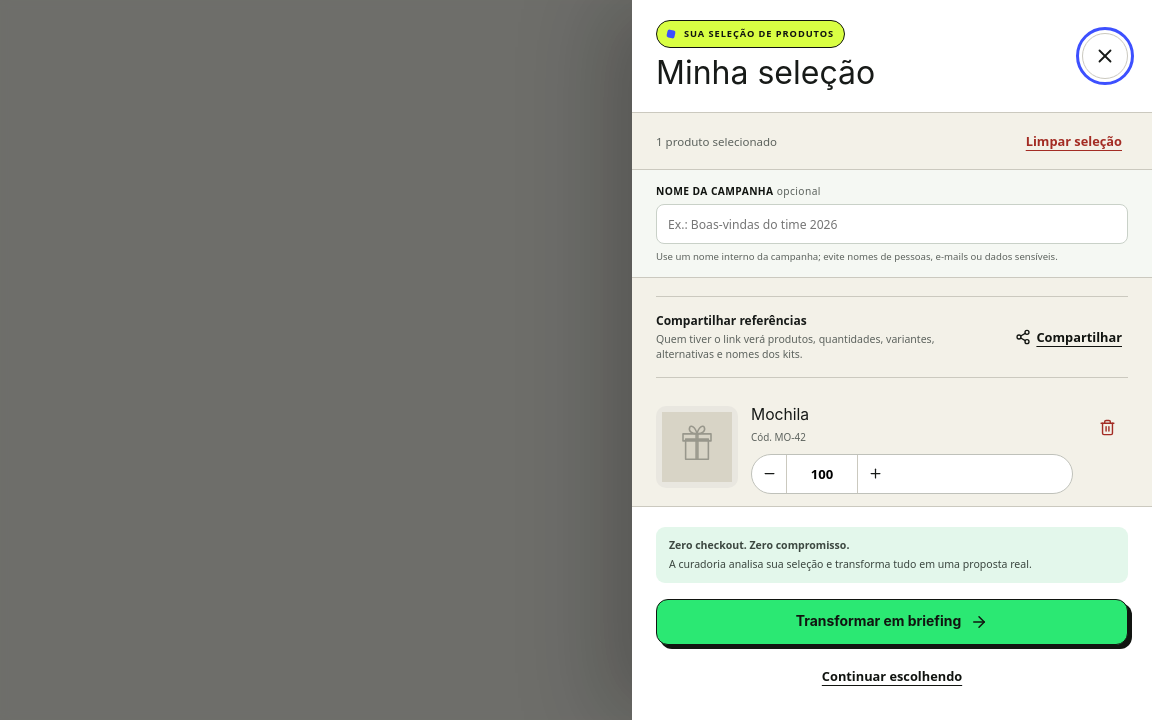
Test: QuoteDrawer › deixa substituir a quantidade inteira antes de aplicar o mínimo no blur
Replace the text in the number field named "Quantidade desejada de Mochila" with "250" at (822,474), box [786, 454, 858, 492]
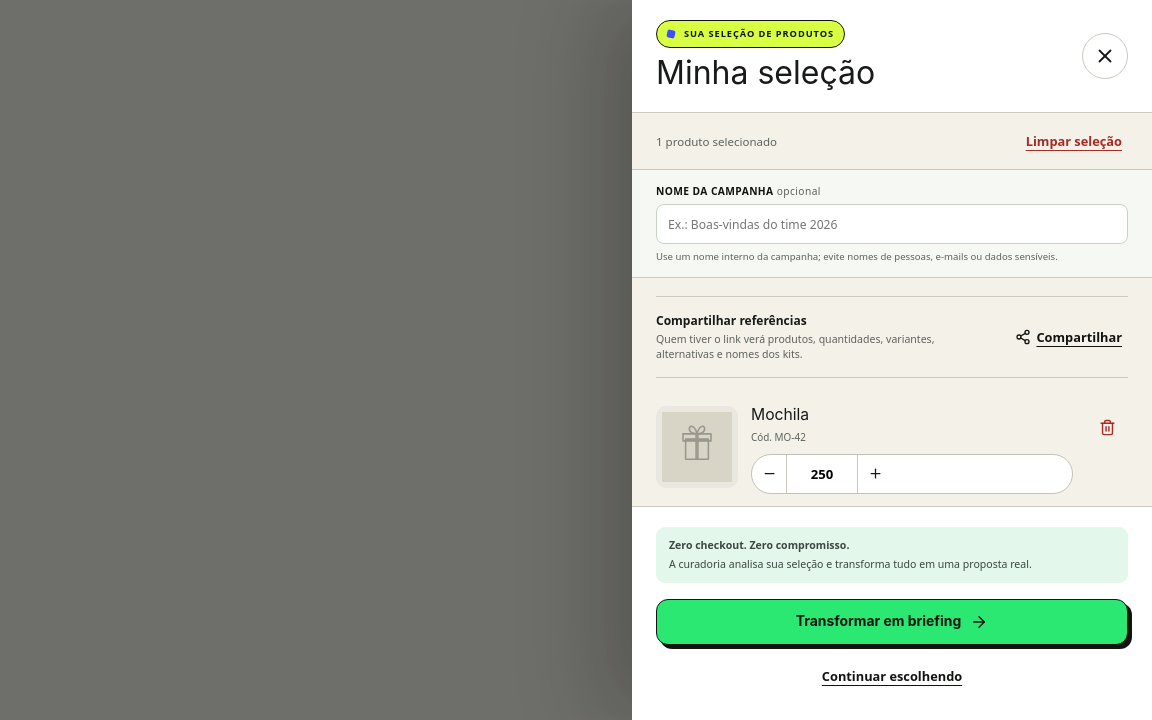
Leave the number field named "Quantidade desejada de Mochila", box [786, 454, 858, 492]
Clear the number field named "Quantidade desejada de Mochila" at (822,474), box [786, 454, 858, 492]
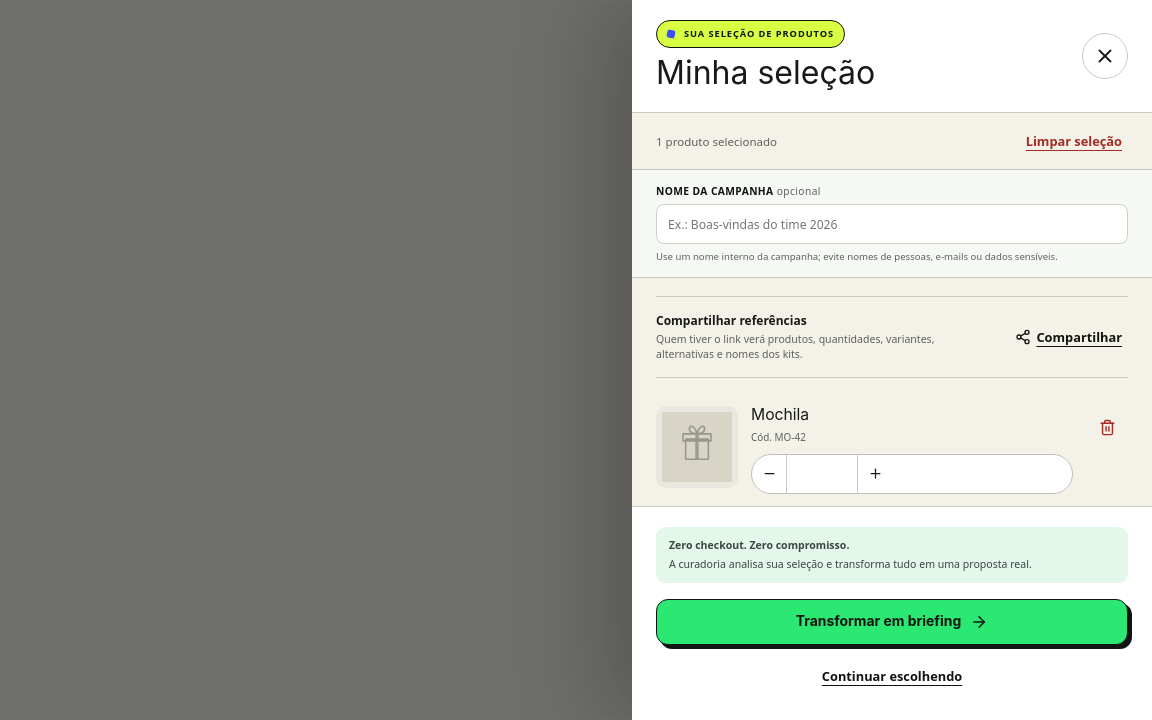
Leave the number field named "Quantidade desejada de Mochila", box [786, 454, 858, 492]
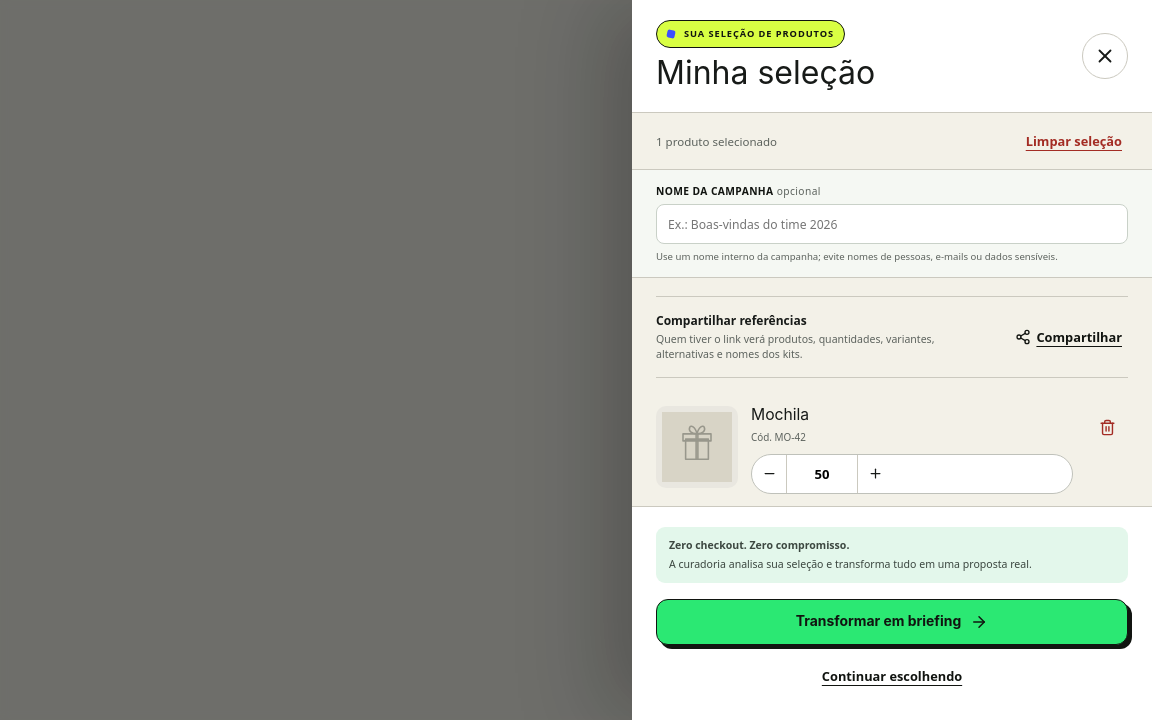
Expected: the number field named "Quantidade desejada de Mochila" holds "50", [786, 454, 858, 492]
